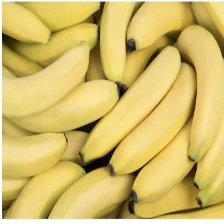banana: (21, 13, 216, 173)
